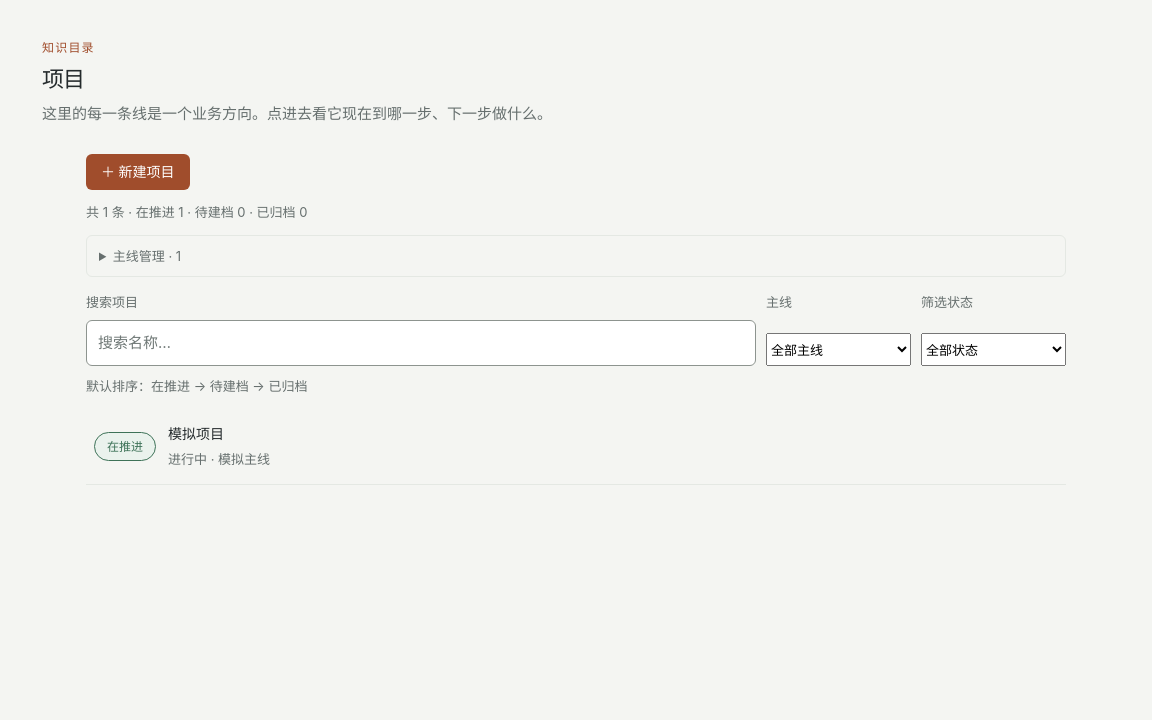
Test: opens a full project detail and preserves list search/filter state on return
Type "模拟" into the field labelled "搜索项目" at x=421, y=343, box left=86, top=320, right=756, bottom=366
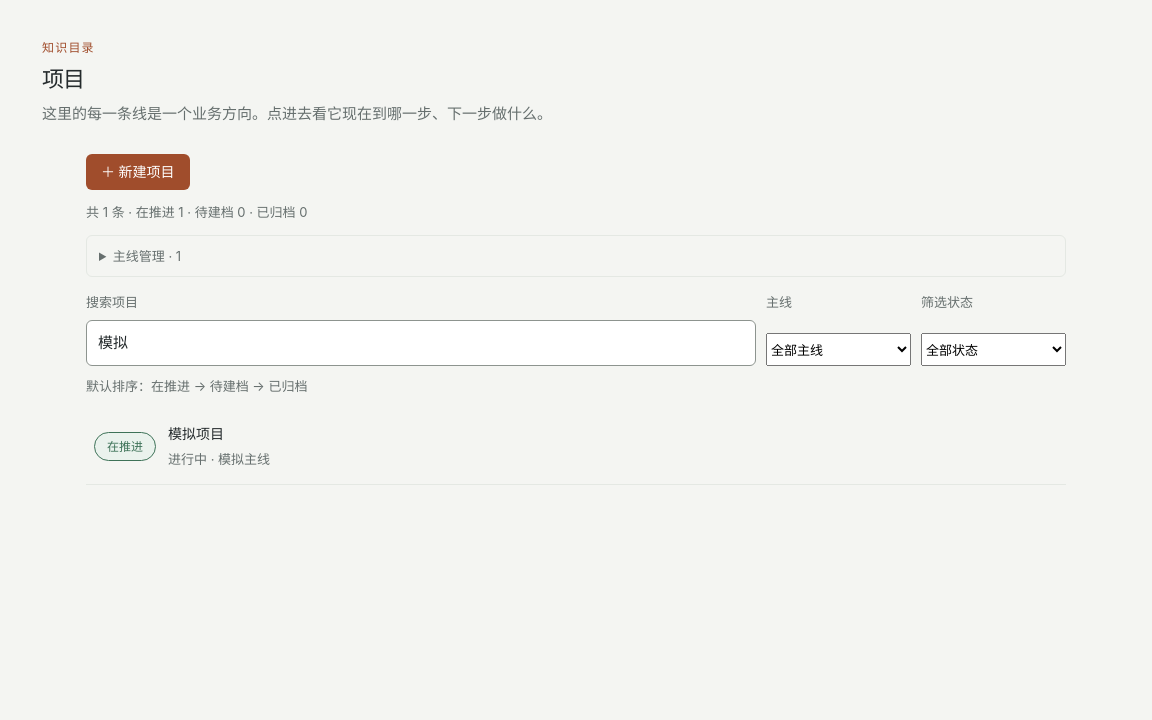
Expected: the text "默认排序：在推进 → 待建档 → 已归档" is shown, left=86, top=378, right=307, bottom=394
Click the button "在推进 模拟项目 进行中 · 模拟主线" at x=125, y=447, box left=86, top=409, right=1066, bottom=484
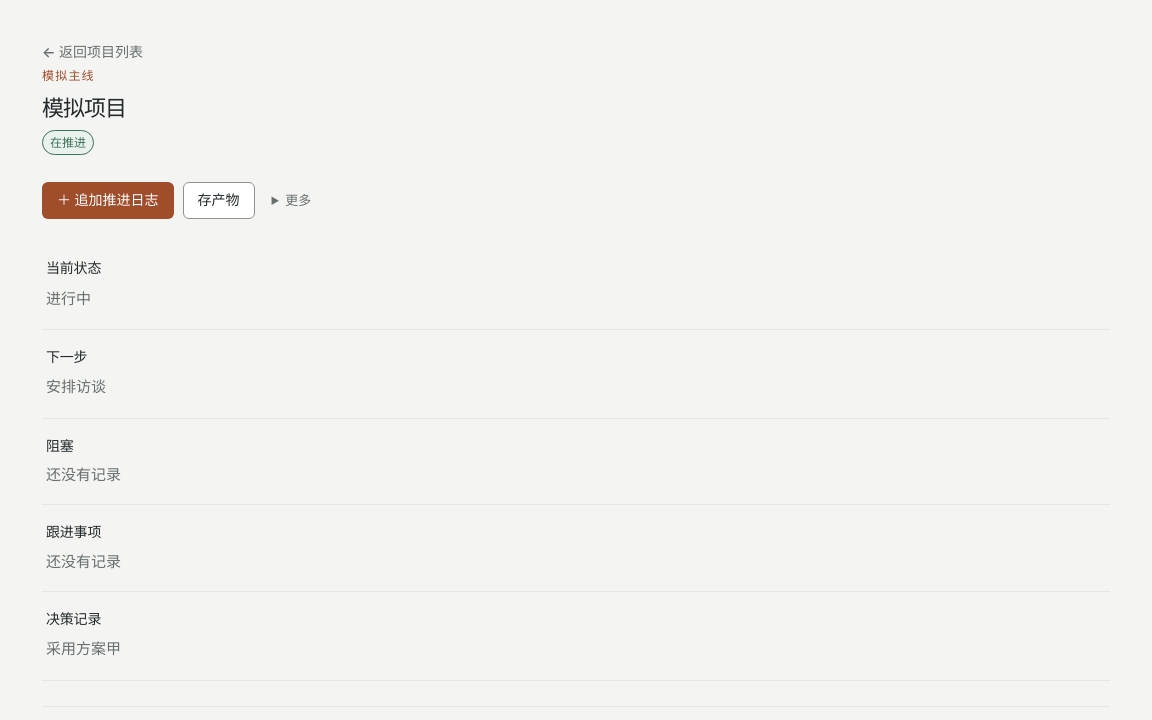
Expected: the text "在推进" is shown, left=42, top=130, right=94, bottom=155
Expected: the text "还没有记录" is shown 2 times, left=46, top=465, right=121, bottom=484; left=46, top=552, right=121, bottom=571
Expected: the text "采用方案甲" is shown 2 times
Click the button "← 返回项目列表" at x=92, y=52, box left=42, top=38, right=143, bottom=66
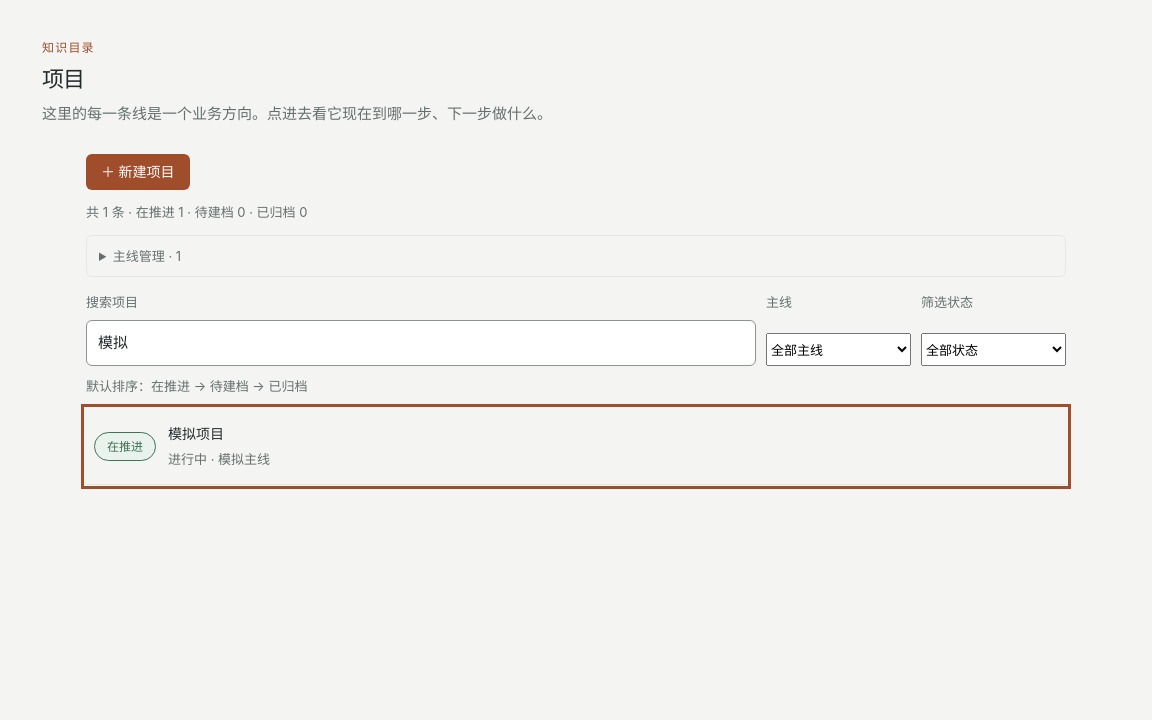
Expected: the field labelled "搜索项目" holds "模拟", left=86, top=320, right=756, bottom=366
Expected: the dropdown labelled "筛选状态" shows "全部状态", left=921, top=333, right=1066, bottom=366
